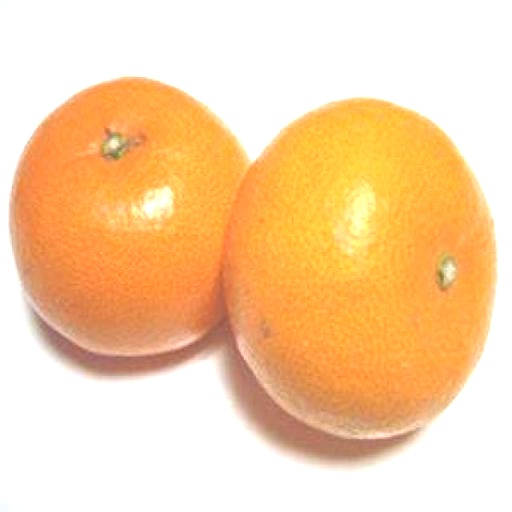fruit: (225, 99, 495, 437), (10, 78, 247, 355)
